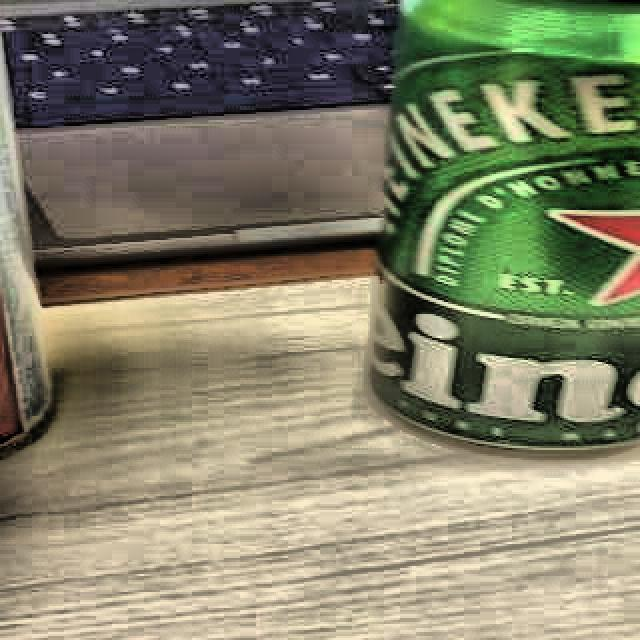metal: (358, 0, 640, 464)
